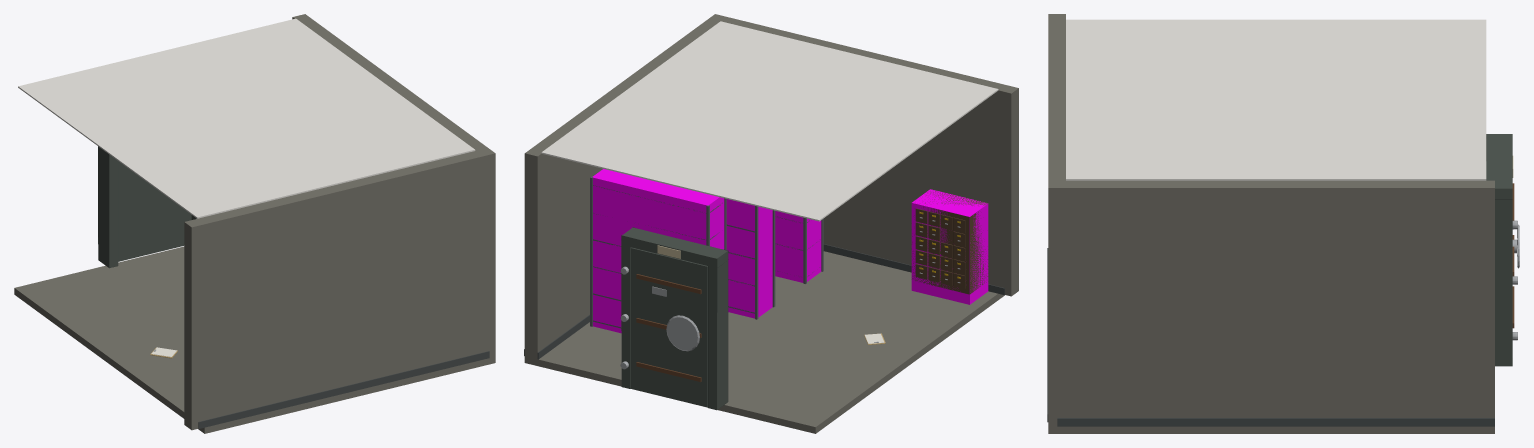
The model's file is ENV_HistoricRecordsVault.glb.
3 views of the same model, side by side, from view 1: azimuth 30°, elevation 25°; view 2: azimuth 150°, elevation 25°; view 3: azimuth 270°, elevation 25° (orthographic). The views are drawn at different scales.
Parts seen in each view (by area): view 1: ENV_HistoricRecordsVault_Architecture, ENV_HistoricRecordsVault_Ceiling, ENV_HistoricRecordsVault_Posts, PROP_Door_Vault_Records_Leaf, PROP_Door_Vault_Records_Frame; view 2: ENV_HistoricRecordsVault_Architecture, ENV_HistoricRecordsVault_Ceiling, PROP_Door_Vault_Records_Leaf, PROP_Shelving_Archive_COL-colonly.004, PROP_Door_Vault_Records_Frame, PROP_Cabinet_Card_Index_Mesh.002, PROP_Shelving_Archive_COL-colonly.003, ENV_HistoricRecordsVault_Posts, PROP_Cabinet_Card_Index_COL-colonly.002, PROP_Shelving_Archive_COL-colonly.002, PROP_Shelving_Archive_Mesh.004, PROP_Shelving_Archive_Mesh.003 (+1 smaller); view 3: ENV_HistoricRecordsVault_Architecture, ENV_HistoricRecordsVault_Ceiling, PROP_Door_Vault_Records_Frame, ENV_HistoricRecordsVault_Posts, PROP_Door_Vault_Records_Leaf.
Part boxes in pixels (<box>): ENV_HistoricRecordsVault_Architecture: <box>14,14,495,433</box>; ENV_HistoricRecordsVault_Ceiling: <box>18,18,475,218</box>; ENV_HistoricRecordsVault_Posts: <box>184,148,495,430</box>; PROP_Door_Vault_Records_Leaf: <box>118,161,191,261</box>; PROP_Door_Vault_Records_Frame: <box>98,146,196,268</box>; ENV_HistoricRecordsVault_Architecture: <box>524,15,1006,433</box>; ENV_HistoricRecordsVault_Ceiling: <box>541,21,998,221</box>; PROP_Door_Vault_Records_Leaf: <box>631,247,707,407</box>; PROP_Shelving_Archive_COL-colonly.004: <box>592,169,724,333</box>; PROP_Door_Vault_Records_Frame: <box>620,227,728,410</box>; PROP_Cabinet_Card_Index_Mesh.002: <box>911,190,988,294</box>; PROP_Shelving_Archive_COL-colonly.003: <box>726,199,772,318</box>; ENV_HistoricRecordsVault_Posts: <box>708,14,1018,296</box>; PROP_Cabinet_Card_Index_COL-colonly.002: <box>911,189,988,304</box>; PROP_Shelving_Archive_COL-colonly.002: <box>775,211,821,282</box>; PROP_Shelving_Archive_Mesh.004: <box>590,176,726,328</box>; PROP_Shelving_Archive_Mesh.003: <box>727,206,775,319</box>; ENV_HistoricRecordsVault_Architecture: <box>1047,17,1494,433</box>; ENV_HistoricRecordsVault_Ceiling: <box>1066,19,1486,180</box>; PROP_Door_Vault_Records_Frame: <box>1486,134,1517,366</box>; ENV_HistoricRecordsVault_Posts: <box>1048,14,1065,425</box>; PROP_Door_Vault_Records_Leaf: <box>1512,183,1519,328</box>.
Size of what is drawn, in the model's own units: 4.71 by 3.12 by 5.39.
